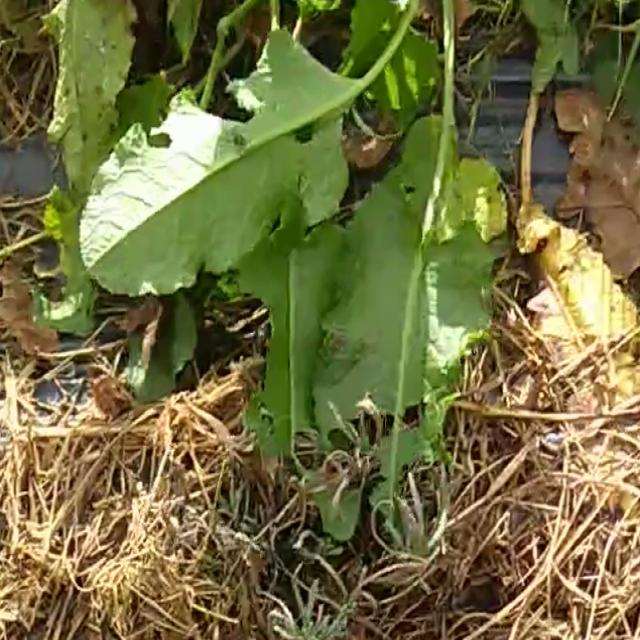organic waste: (27, 0, 574, 527)
